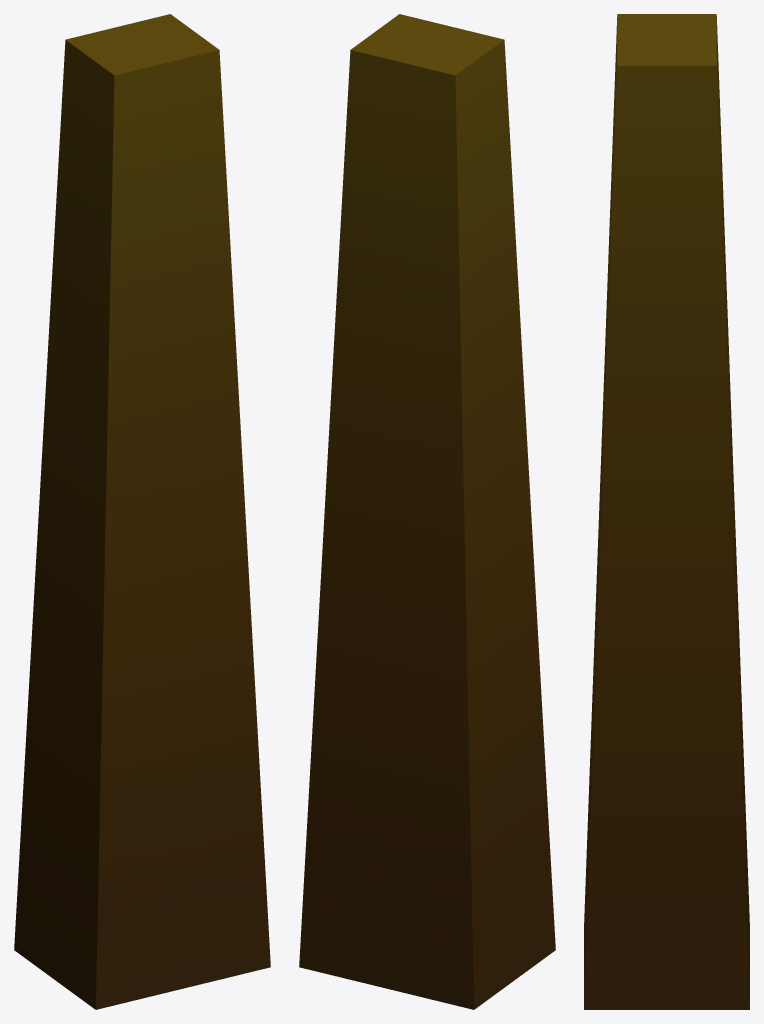
The model's file is TreeStump_GO.fbx.
The picture shows the model from 3 angles, left to right: view 1: azimuth 30°, elevation 25°; view 2: azimuth 150°, elevation 25°; view 3: azimuth 270°, elevation 25°; orthographic projection.
Parts seen in each view (by area): view 1: TreeStump_GO; view 2: TreeStump_GO; view 3: TreeStump_GO.
Part boxes in pixels (x1,y1,x2,y2): TreeStump_GO: [14, 14, 270, 1009]; TreeStump_GO: [299, 14, 555, 1009]; TreeStump_GO: [584, 14, 749, 1009].
Bounding box in the file's own units: 23.19 × 116 × 18.76.
Materials: 1 (1 with a texture image).
